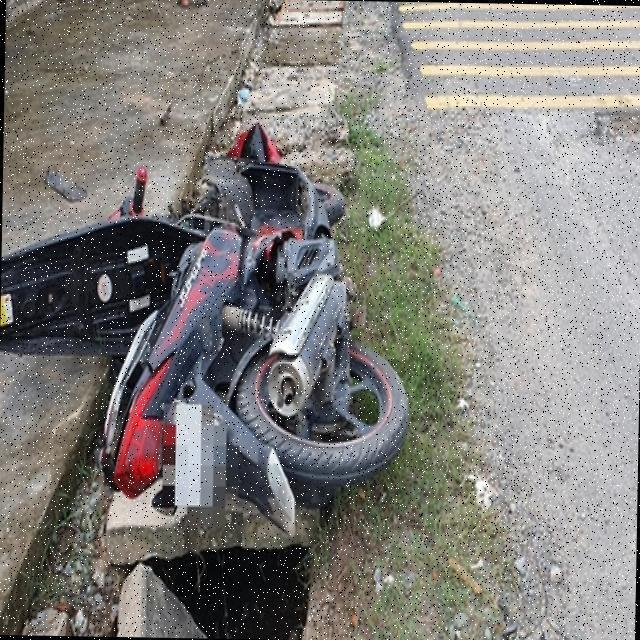accident: (65, 95, 435, 559)
